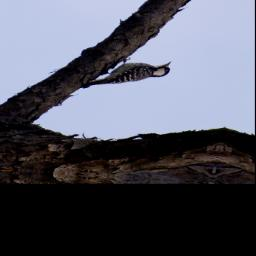Woodpecker: (75, 52, 178, 97)
